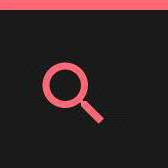ImgButton: (1, 1, 167, 167)
